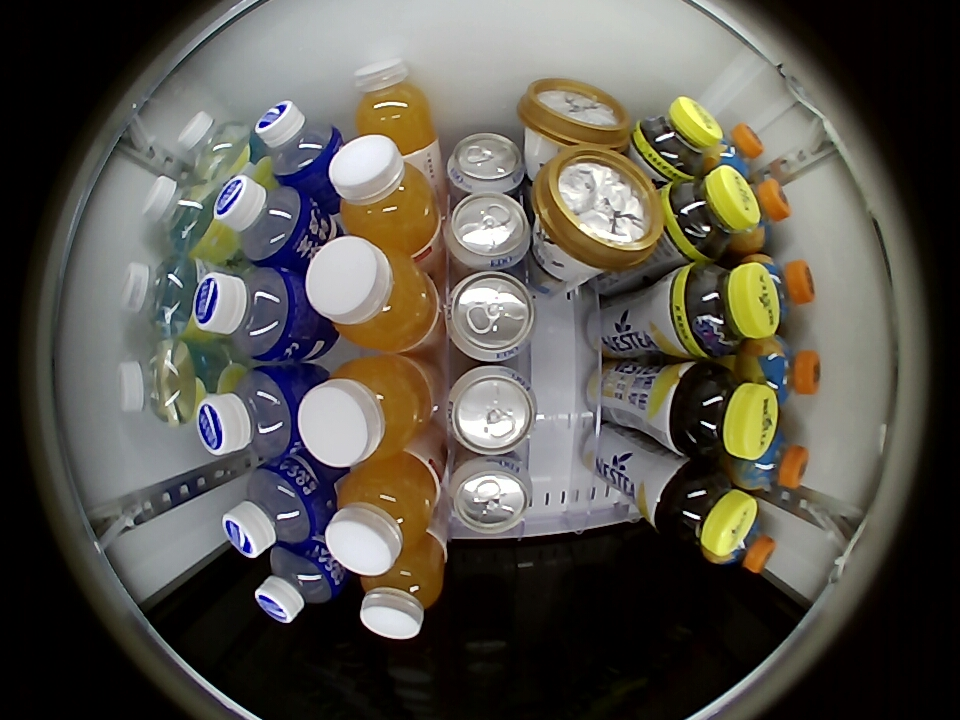baokuangli: (193, 266, 306, 362), (222, 459, 325, 558), (197, 365, 301, 460), (214, 175, 316, 268), (253, 100, 342, 190), (255, 539, 344, 623)
chacui: (672, 261, 781, 359), (668, 363, 778, 460), (655, 460, 756, 557), (662, 166, 760, 262), (634, 97, 722, 181)
guolicheng: (743, 334, 820, 403), (731, 425, 809, 492), (746, 254, 815, 329), (708, 512, 777, 575), (737, 176, 791, 252), (705, 122, 764, 180)
lujiaoxiang: (533, 148, 662, 270), (517, 79, 631, 151)
qinningshui: (117, 341, 200, 426), (120, 256, 200, 337), (142, 176, 220, 254), (177, 111, 252, 181)
rusuanjunqishui: (446, 270, 535, 362), (446, 364, 536, 454), (448, 456, 533, 535), (446, 192, 531, 269), (446, 132, 526, 194)
weic: (306, 236, 440, 353), (298, 355, 434, 467), (326, 454, 441, 576), (328, 134, 441, 255), (358, 534, 447, 639), (352, 58, 437, 158)
